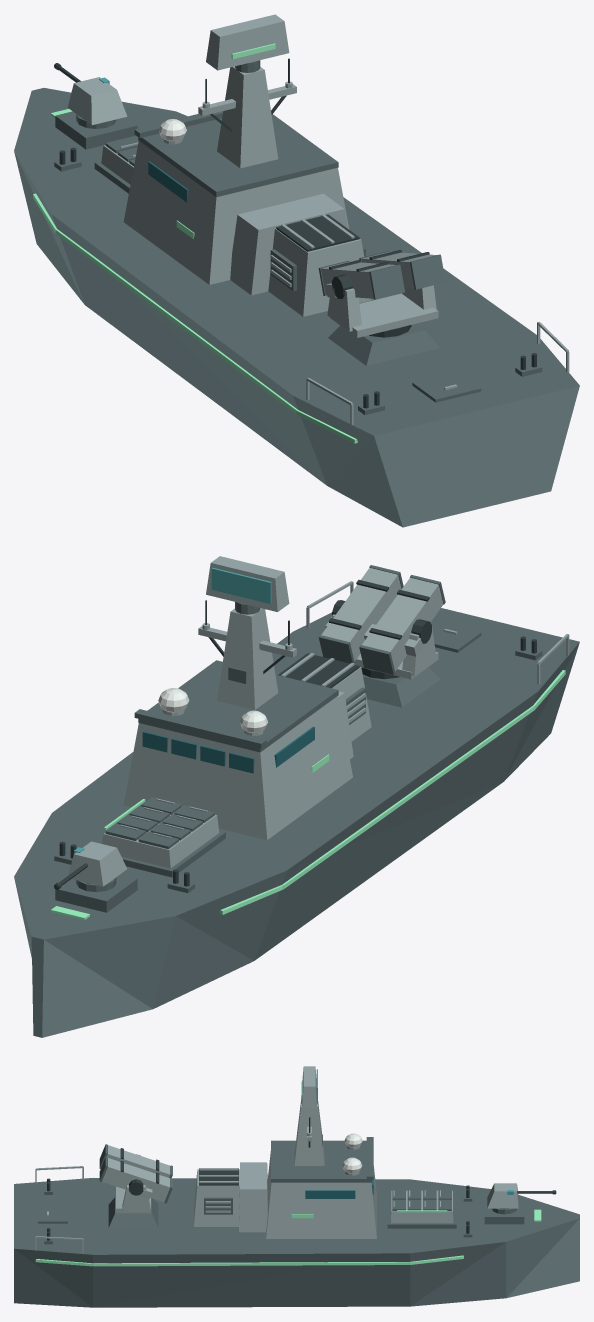
The model's file is ESC_CAP_T1.fbx.
The picture shows the model from 3 angles, top to bottom: view 1: azimuth 30°, elevation 25°; view 2: azimuth 150°, elevation 25°; view 3: azimuth 270°, elevation 25°; orthographic projection. The views are drawn at different scales.
Parts seen in each view (by area): view 1: ContinuousHull.001, Deckhouse.001, Roof.001, AftServiceCabin.001, AirSearchMast.001, FunnelEnclosure.001, RotatingSearchRadarCabinet.001, SAMFixedPedestal, SAMSlewTable, PrimaryGunCupola.001, PrimaryGunDeckPlinth, RoleHullStripe-1_1 (+9 smaller); view 2: ContinuousHull.001, Deckhouse.001, Roof.001, AirSearchMast.001, SAMCanisterBank_02, SAMCanisterBank_01, ForwardVLSCasing.001, RotatingSearchRadarCabinet.001, PrimaryGunCupola.001, SAMFixedPedestal, PrimaryGunDeckPlinth, RoleHullStripe-1_1 (+11 smaller); view 3: ContinuousHull.001, Deckhouse.001, Roof.001, AftServiceCabin.001, FunnelEnclosure.001, AirSearchMast.001, SAMCanisterBank_01, RoleHullStripe1_1, ForwardVLSCasing.001, SAMFixedPedestal, SAMCanisterBank_02, PrimaryGunCupola.001 (+9 smaller).
Boxes of the visible parts, left/top/right/bottom form: ContinuousHull.001: left=14, top=88, right=579, bottom=527; Deckhouse.001: left=123, top=141, right=349, bottom=284; Roof.001: left=138, top=114, right=338, bottom=197; AftServiceCabin.001: left=230, top=193, right=347, bottom=295; AirSearchMast.001: left=217, top=66, right=278, bottom=168; FunnelEnclosure.001: left=268, top=228, right=371, bottom=316; RotatingSearchRadarCabinet.001: left=206, top=14, right=289, bottom=70; SAMFixedPedestal: left=328, top=324, right=440, bottom=365; SAMSlewTable: left=330, top=293, right=438, bottom=337; PrimaryGunCupola.001: left=67, top=77, right=127, bottom=125; PrimaryGunDeckPlinth: left=55, top=111, right=137, bottom=149; RoleHullStripe-1_1: left=55, top=229, right=297, bottom=414; ContinuousHull.001: left=14, top=608, right=579, bottom=1037; Deckhouse.001: left=123, top=696, right=352, bottom=839; Roof.001: left=138, top=660, right=338, bottom=752; AirSearchMast.001: left=217, top=608, right=278, bottom=709; SAMCanisterBank_02: left=362, top=577, right=443, bottom=671; SAMCanisterBank_01: left=321, top=567, right=401, bottom=661; ForwardVLSCasing.001: left=102, top=806, right=219, bottom=868; RotatingSearchRadarCabinet.001: left=206, top=556, right=289, bottom=611; PrimaryGunCupola.001: left=68, top=841, right=127, bottom=886; SAMFixedPedestal: left=362, top=667, right=440, bottom=707; PrimaryGunDeckPlinth: left=55, top=874, right=137, bottom=912; RoleHullStripe-1_1: left=282, top=706, right=534, bottom=888; ContinuousHull.001: left=14, top=1178, right=579, bottom=1307; Deckhouse.001: left=266, top=1151, right=376, bottom=1238; Roof.001: left=271, top=1140, right=371, bottom=1182; AftServiceCabin.001: left=238, top=1162, right=267, bottom=1232; FunnelEnclosure.001: left=194, top=1169, right=239, bottom=1226; AirSearchMast.001: left=294, top=1100, right=324, bottom=1165; SAMCanisterBank_01: left=102, top=1158, right=170, bottom=1202; RoleHullStripe1_1: left=93, top=1262, right=410, bottom=1266; ForwardVLSCasing.001: left=390, top=1190, right=453, bottom=1223; SAMFixedPedestal: left=108, top=1197, right=158, bottom=1227; SAMCanisterBank_02: left=106, top=1145, right=170, bottom=1177; PrimaryGunCupola.001: left=487, top=1183, right=518, bottom=1208.
Bounding box in the file's own units: 290 × 357 × 900.
